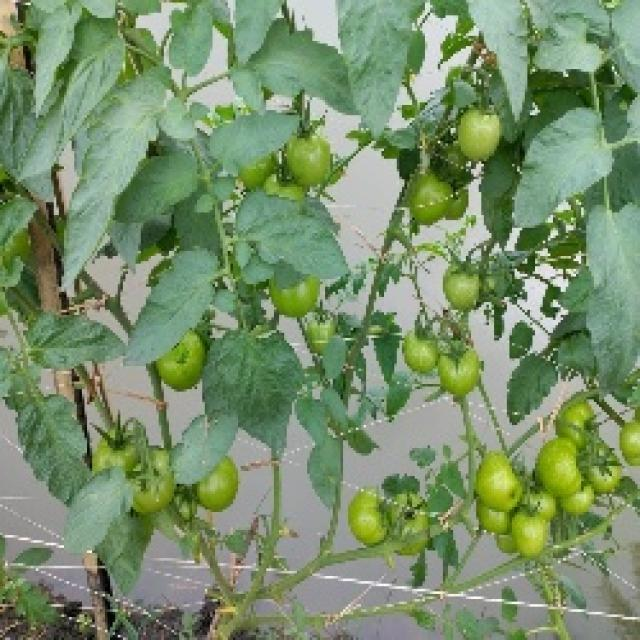tomato: (126, 444, 198, 527), (402, 167, 479, 231), (397, 316, 466, 381), (438, 254, 509, 315), (150, 328, 214, 393), (266, 276, 328, 340), (283, 128, 346, 186), (532, 435, 588, 500), (454, 99, 510, 162), (344, 490, 397, 553), (88, 418, 134, 489), (503, 500, 554, 564), (470, 447, 526, 505), (435, 343, 494, 398), (559, 389, 603, 445), (199, 463, 249, 512), (516, 476, 563, 525), (481, 500, 513, 540), (617, 412, 640, 463), (569, 481, 597, 520)
